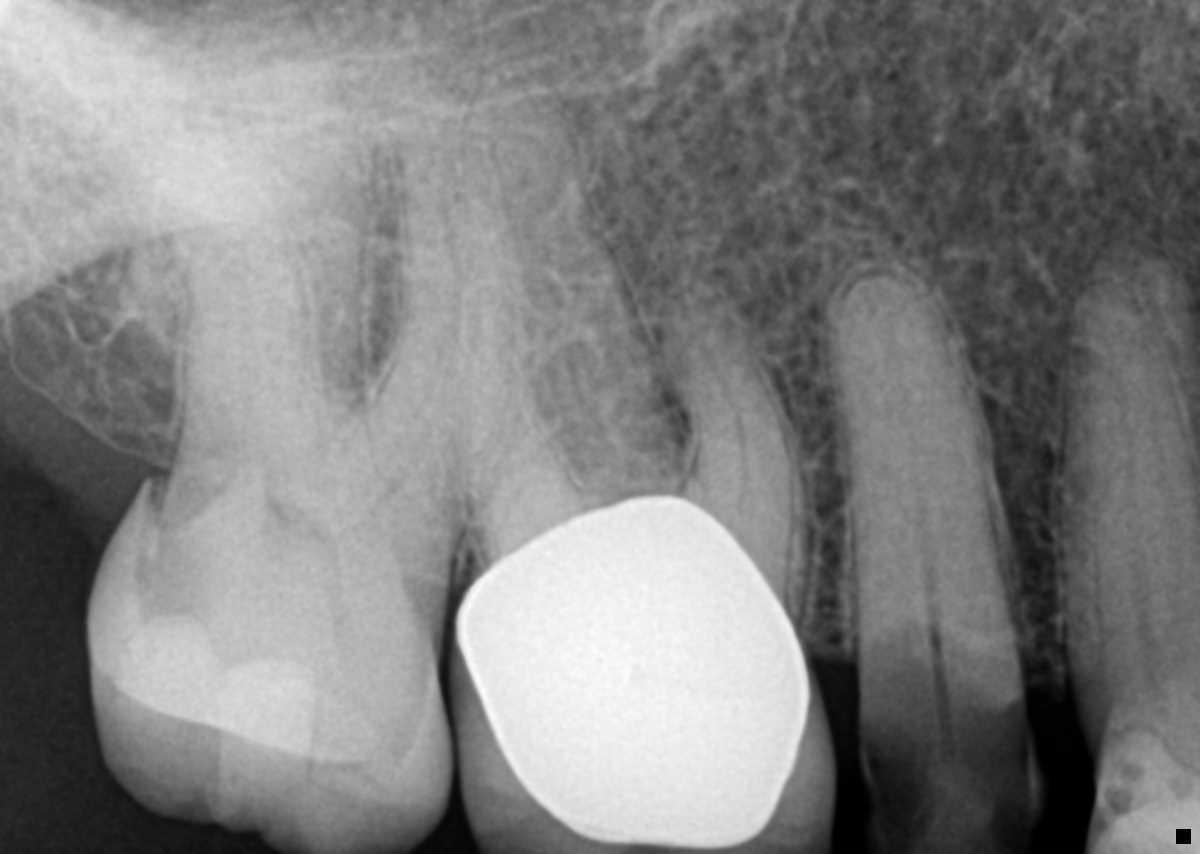Distal Root: (154, 109, 329, 479), (442, 274, 588, 555)
Main Canal: (862, 626, 1042, 851), (1111, 360, 1155, 658), (904, 409, 948, 660)
Main Root: (831, 271, 1026, 673), (1047, 247, 1200, 666)
Mesial Root: (352, 41, 525, 521), (652, 286, 807, 593)
Palatal Root: (458, 56, 722, 540), (182, 0, 382, 490)
